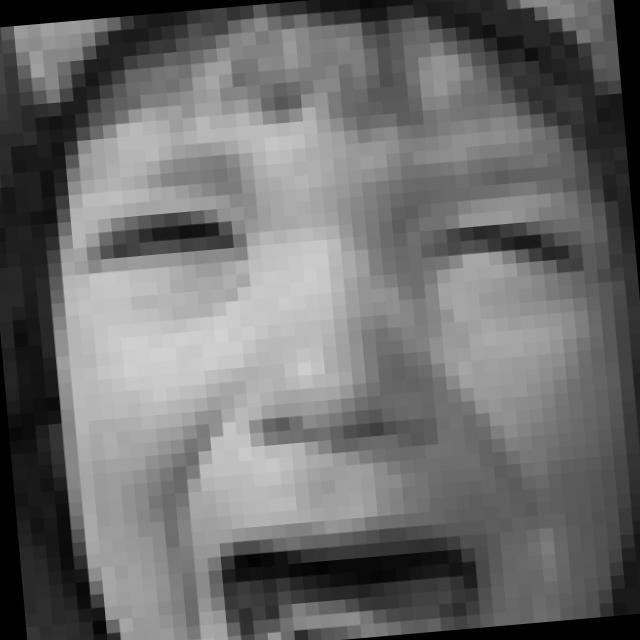sad: (68, 111, 637, 640)
